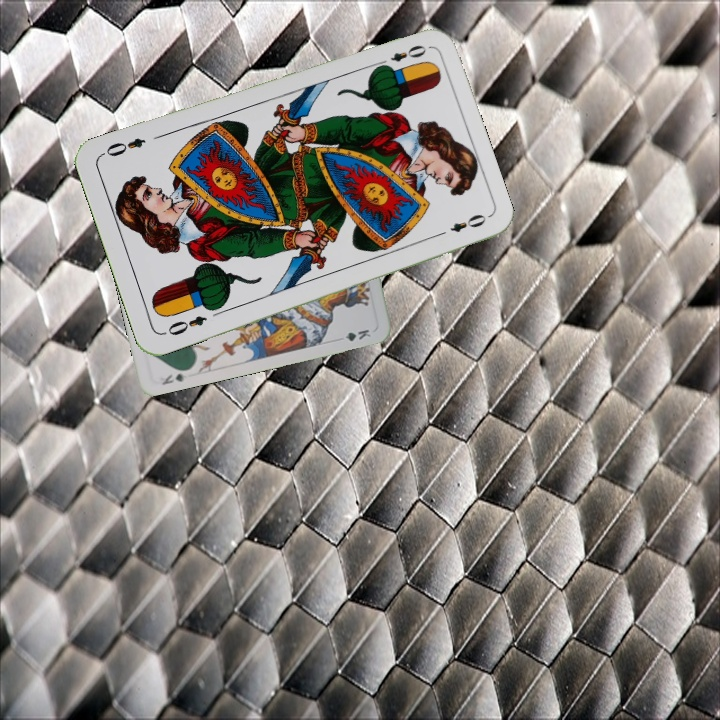EO: (372, 41, 429, 71), (163, 311, 210, 338)
GK: (158, 369, 189, 387)
